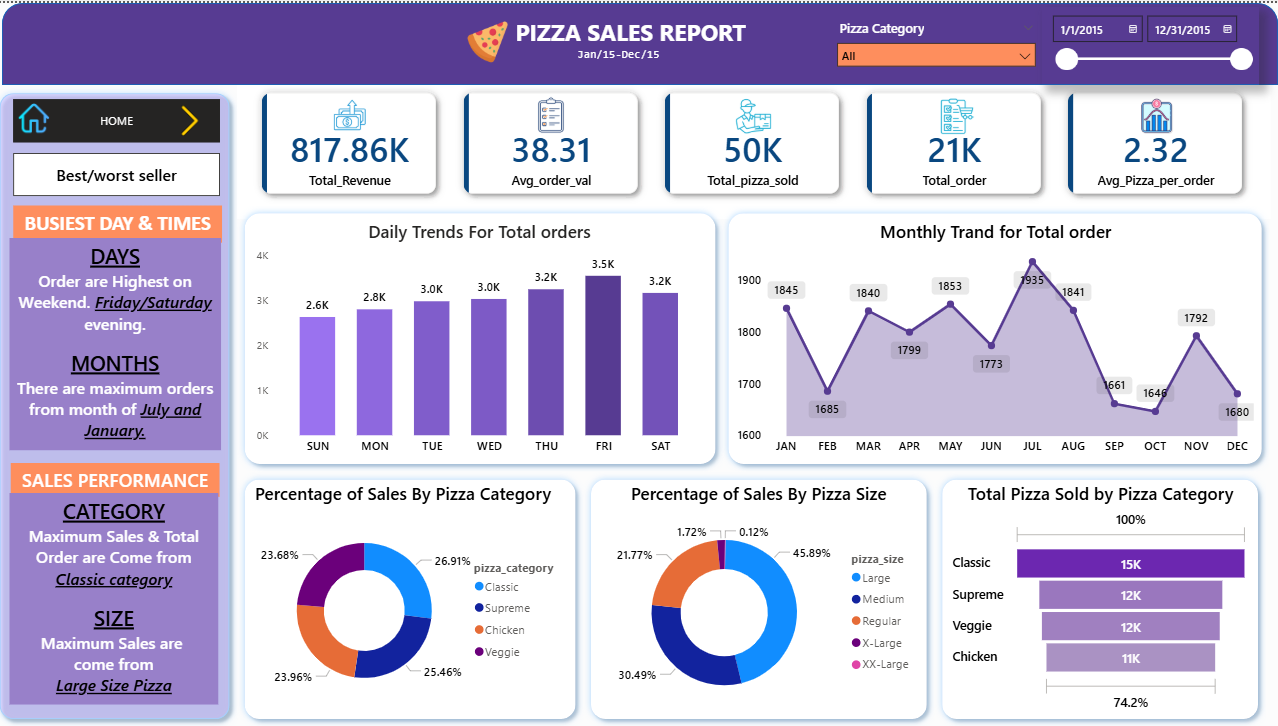

The page's visual inventory and layout, read from the dashboard file:
{"tool":"powerbi","page":{"name":"HOME","canvas":[1500,840],"ordinal":0},"visuals":[{"type":"group","id":"g1","title":"Group 1","box":[284.5,75.5,1198.8,175.6],"z":0},{"type":"cardVisual","fields":{"Data":["pizza_sales.Total_Revenue","pizza_sales.Avg_order_val","pizza_sales.Total_pizza_sold","pizza_sales.Total_order","pizza_sales.Avg_Pizza_per_order"]},"box":[284.5,75.5,1200,175],"z":0,"group":"g1"},{"type":"group","id":"g2","title":"Group 3","box":[24.6,112.3,240,50.8],"z":0,"group":"g6"},{"type":"pageNavigator","box":[24.6,112.3,240,50.8],"z":0,"group":"g2"},{"type":"shape","box":[12.3,0,1481.5,95.4],"z":1000},{"type":"image","box":[377.5,109.6,75.8,42.3],"z":1000,"group":"g1"},{"type":"image","box":[24.6,116.9,47.7,35.4],"z":1000,"group":"g6"},{"type":"image","box":[209.2,120,41.5,35.4],"z":1000,"group":"g2"},{"type":"textbox","box":[596.5,10.2,290.3,49.3],"z":2000},{"type":"image","box":[611,109.6,75.6,42.2],"z":2000,"group":"g1"},{"type":"textbox","box":[674.8,45,155.3,30.5],"z":3000},{"type":"image","box":[846.2,109.7,75.9,42.3],"z":3000,"group":"g1"},{"type":"image","box":[532.6,20.3,85.6,49.3],"z":4000},{"type":"image","box":[1083.4,109.7,75.9,42.3],"z":4000,"group":"g1"},{"type":"image","box":[1315.3,110.3,75.6,42.7],"z":5000,"group":"g1"},{"type":"shape","box":[284.5,235.1,564.6,309.1],"z":5000},{"type":"shape","box":[846.1,235.1,637.1,309.1],"z":6000},{"type":"columnChart","title":"Daily Trends For Total orders","fields":{"Category":["pizza_sales.Order_day"],"Y":["pizza_sales.Total_order"]},"box":[301.9,251.1,528.3,283],"z":7000},{"type":"shape","box":[0,95.4,284.6,744.6],"z":8000,"group":"g3"},{"type":"areaChart","title":"Monthly Trand for Total order","fields":{"Y":["pizza_sales.Total_order"],"Category":["pizza_sales.Order_month"]},"box":[860.6,251.1,609.5,283],"z":8000},{"type":"shape","box":[284.5,544.2,402,296.1],"z":9000},{"type":"shape","box":[686.5,544.2,407.8,296.1],"z":10000},{"type":"shape","box":[1094.3,544.2,384.6,296.1],"z":11000},{"type":"donutChart","title":"Percentage of Sales By Pizza Category","fields":{"Category":["pizza_sales.pizza_category"],"Y":["pizza_sales.Total_Revenue"]},"box":[300.4,555.8,373,272.8],"z":12000},{"type":"donutChart","title":"Percentage of Sales By Pizza Size","fields":{"Y":["pizza_sales.Total_Revenue"],"Category":["pizza_sales.pizza_size"]},"box":[698.1,555.8,384.6,272.8],"z":13000},{"type":"funnel","title":"Total Pizza Sold by Pizza Category","fields":{"Category":["pizza_sales.pizza_category"],"Y":["pizza_sales.Total_pizza_sold"]},"box":[1110.2,555.8,354.1,272.8],"z":14000},{"type":"group","id":"g3","title":"Group 2","box":[0,95.4,284.6,744.6],"z":15000},{"type":"slicer","fields":{"Values":["pizza_sales.pizza_category"]},"box":[970.9,14.5,251.1,61],"z":16000},{"type":"slicer","fields":{"Values":["pizza_sales.order_date"]},"box":[1218.5,4.6,252.3,90.8],"z":17000},{"type":"textbox","box":[24.1,235.4,242.4,43.5],"z":17000,"group":"g4"},{"type":"textbox","box":[21.6,533.8,242.4,39.5],"z":17000,"group":"g5"},{"type":"group","id":"g4","title":"Group 2","box":[20,235.4,246.2,283.1],"z":18000},{"type":"textbox","box":[20,272.6,245.3,246.7],"z":18000,"group":"g4"},{"type":"textbox","box":[20,568.2,242.4,245.9],"z":18000,"group":"g5"},{"type":"group","id":"g5","title":"Group 2","box":[20,533.8,243.1,280],"z":19000},{"type":"pageNavigator","box":[24.6,173.8,240,50.8],"z":20000},{"type":"group","id":"g6","title":"Group 4","box":[24.6,112.3,240,50.8],"z":21000}]}

Visuals, with their boxes in screenshot pixels (x1, y1, x2, y2), scaled from the page's 1500x840 canvas onto the 1278x726 screenshot:
"Group 1" group: {"x1": 242, "y1": 65, "x2": 1264, "y2": 217}
cardVisual - pizza_sales.Total_Revenue x pizza_sales.Avg_order_val: {"x1": 242, "y1": 65, "x2": 1265, "y2": 217}
"Group 3" group: {"x1": 21, "y1": 97, "x2": 225, "y2": 141}
pageNavigator: {"x1": 21, "y1": 97, "x2": 225, "y2": 141}
shape: {"x1": 10, "y1": 0, "x2": 1273, "y2": 82}
image: {"x1": 322, "y1": 95, "x2": 386, "y2": 131}
image: {"x1": 21, "y1": 101, "x2": 62, "y2": 132}
image: {"x1": 178, "y1": 104, "x2": 214, "y2": 134}
textbox: {"x1": 508, "y1": 9, "x2": 756, "y2": 51}
image: {"x1": 521, "y1": 95, "x2": 585, "y2": 131}
textbox: {"x1": 575, "y1": 39, "x2": 707, "y2": 65}
image: {"x1": 721, "y1": 95, "x2": 786, "y2": 131}
image: {"x1": 454, "y1": 18, "x2": 527, "y2": 60}
image: {"x1": 923, "y1": 95, "x2": 988, "y2": 131}
image: {"x1": 1121, "y1": 95, "x2": 1185, "y2": 132}
shape: {"x1": 242, "y1": 203, "x2": 723, "y2": 470}
shape: {"x1": 721, "y1": 203, "x2": 1264, "y2": 470}
"Daily Trends For Total orders" columnChart: {"x1": 257, "y1": 217, "x2": 707, "y2": 462}
shape: {"x1": 0, "y1": 82, "x2": 242, "y2": 725}
"Monthly Trand for Total order" areaChart: {"x1": 733, "y1": 217, "x2": 1253, "y2": 462}
shape: {"x1": 242, "y1": 470, "x2": 585, "y2": 725}
shape: {"x1": 585, "y1": 470, "x2": 932, "y2": 725}
shape: {"x1": 932, "y1": 470, "x2": 1260, "y2": 725}
"Percentage of Sales By Pizza Category" donutChart: {"x1": 256, "y1": 480, "x2": 574, "y2": 716}
"Percentage of Sales By Pizza Size" donutChart: {"x1": 595, "y1": 480, "x2": 922, "y2": 716}
"Total Pizza Sold by Pizza Category" funnel: {"x1": 946, "y1": 480, "x2": 1248, "y2": 716}
"Group 2" group: {"x1": 0, "y1": 82, "x2": 242, "y2": 725}
slicer - pizza_sales.pizza_category: {"x1": 827, "y1": 13, "x2": 1041, "y2": 65}
slicer - pizza_sales.order_date: {"x1": 1038, "y1": 4, "x2": 1253, "y2": 82}
textbox: {"x1": 21, "y1": 203, "x2": 227, "y2": 241}
textbox: {"x1": 18, "y1": 461, "x2": 225, "y2": 495}
"Group 2" group: {"x1": 17, "y1": 203, "x2": 227, "y2": 448}
textbox: {"x1": 17, "y1": 236, "x2": 226, "y2": 449}
textbox: {"x1": 17, "y1": 491, "x2": 224, "y2": 704}
"Group 2" group: {"x1": 17, "y1": 461, "x2": 224, "y2": 703}
pageNavigator: {"x1": 21, "y1": 150, "x2": 225, "y2": 194}
"Group 4" group: {"x1": 21, "y1": 97, "x2": 225, "y2": 141}
